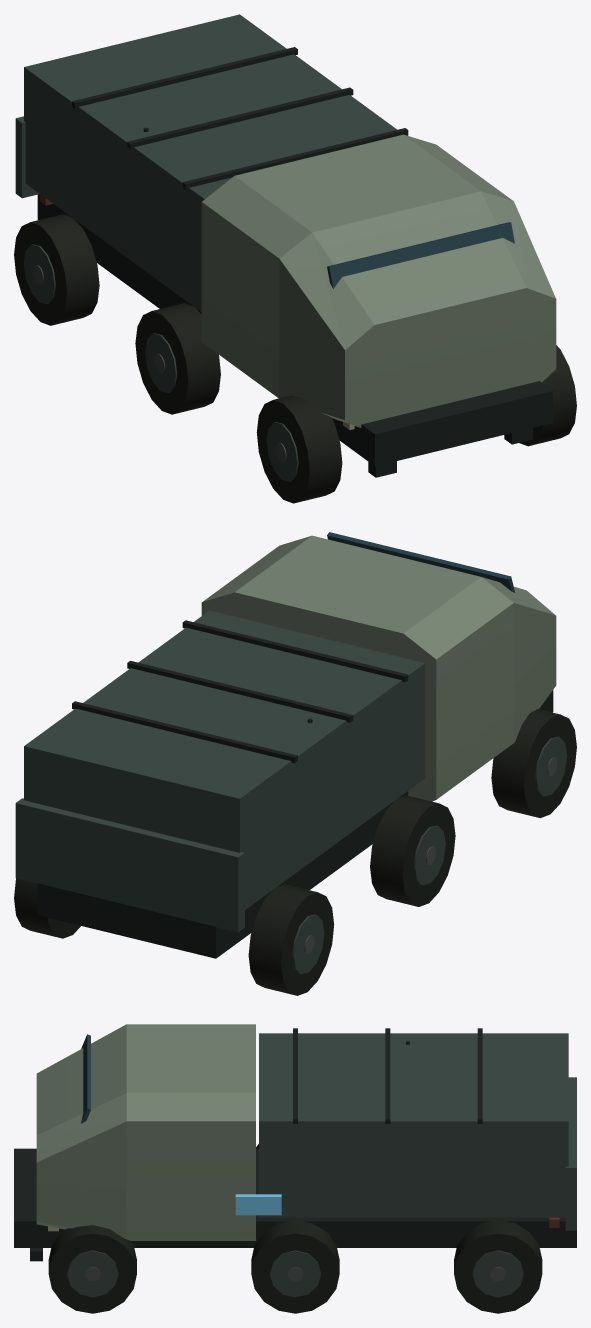
Rendered from logiTruck.glb.
3 views of the same model, one above another, from view 1: azimuth 30°, elevation 25°; view 2: azimuth 150°, elevation 25°; view 3: azimuth 270°, elevation 25° (orthographic). The views are drawn at different scales.
Visible parts, largest first — view 1: equipment, armor, glass; view 2: equipment, armor, glass; view 3: equipment, armor, marking, glass.
Boxes of the visible parts, box(x1,y1,x2,y2) form: equipment: box(14, 14, 576, 503); armor: box(201, 134, 556, 427); glass: box(327, 222, 514, 288); equipment: box(14, 610, 576, 995); armor: box(201, 535, 556, 801); glass: box(327, 532, 514, 592); equipment: box(14, 1028, 576, 1313); armor: box(36, 1024, 255, 1240); marking: box(235, 1194, 281, 1215); glass: box(81, 1034, 90, 1123).
Size of the model in its own units: 2.84 by 2.4 by 6.1.
